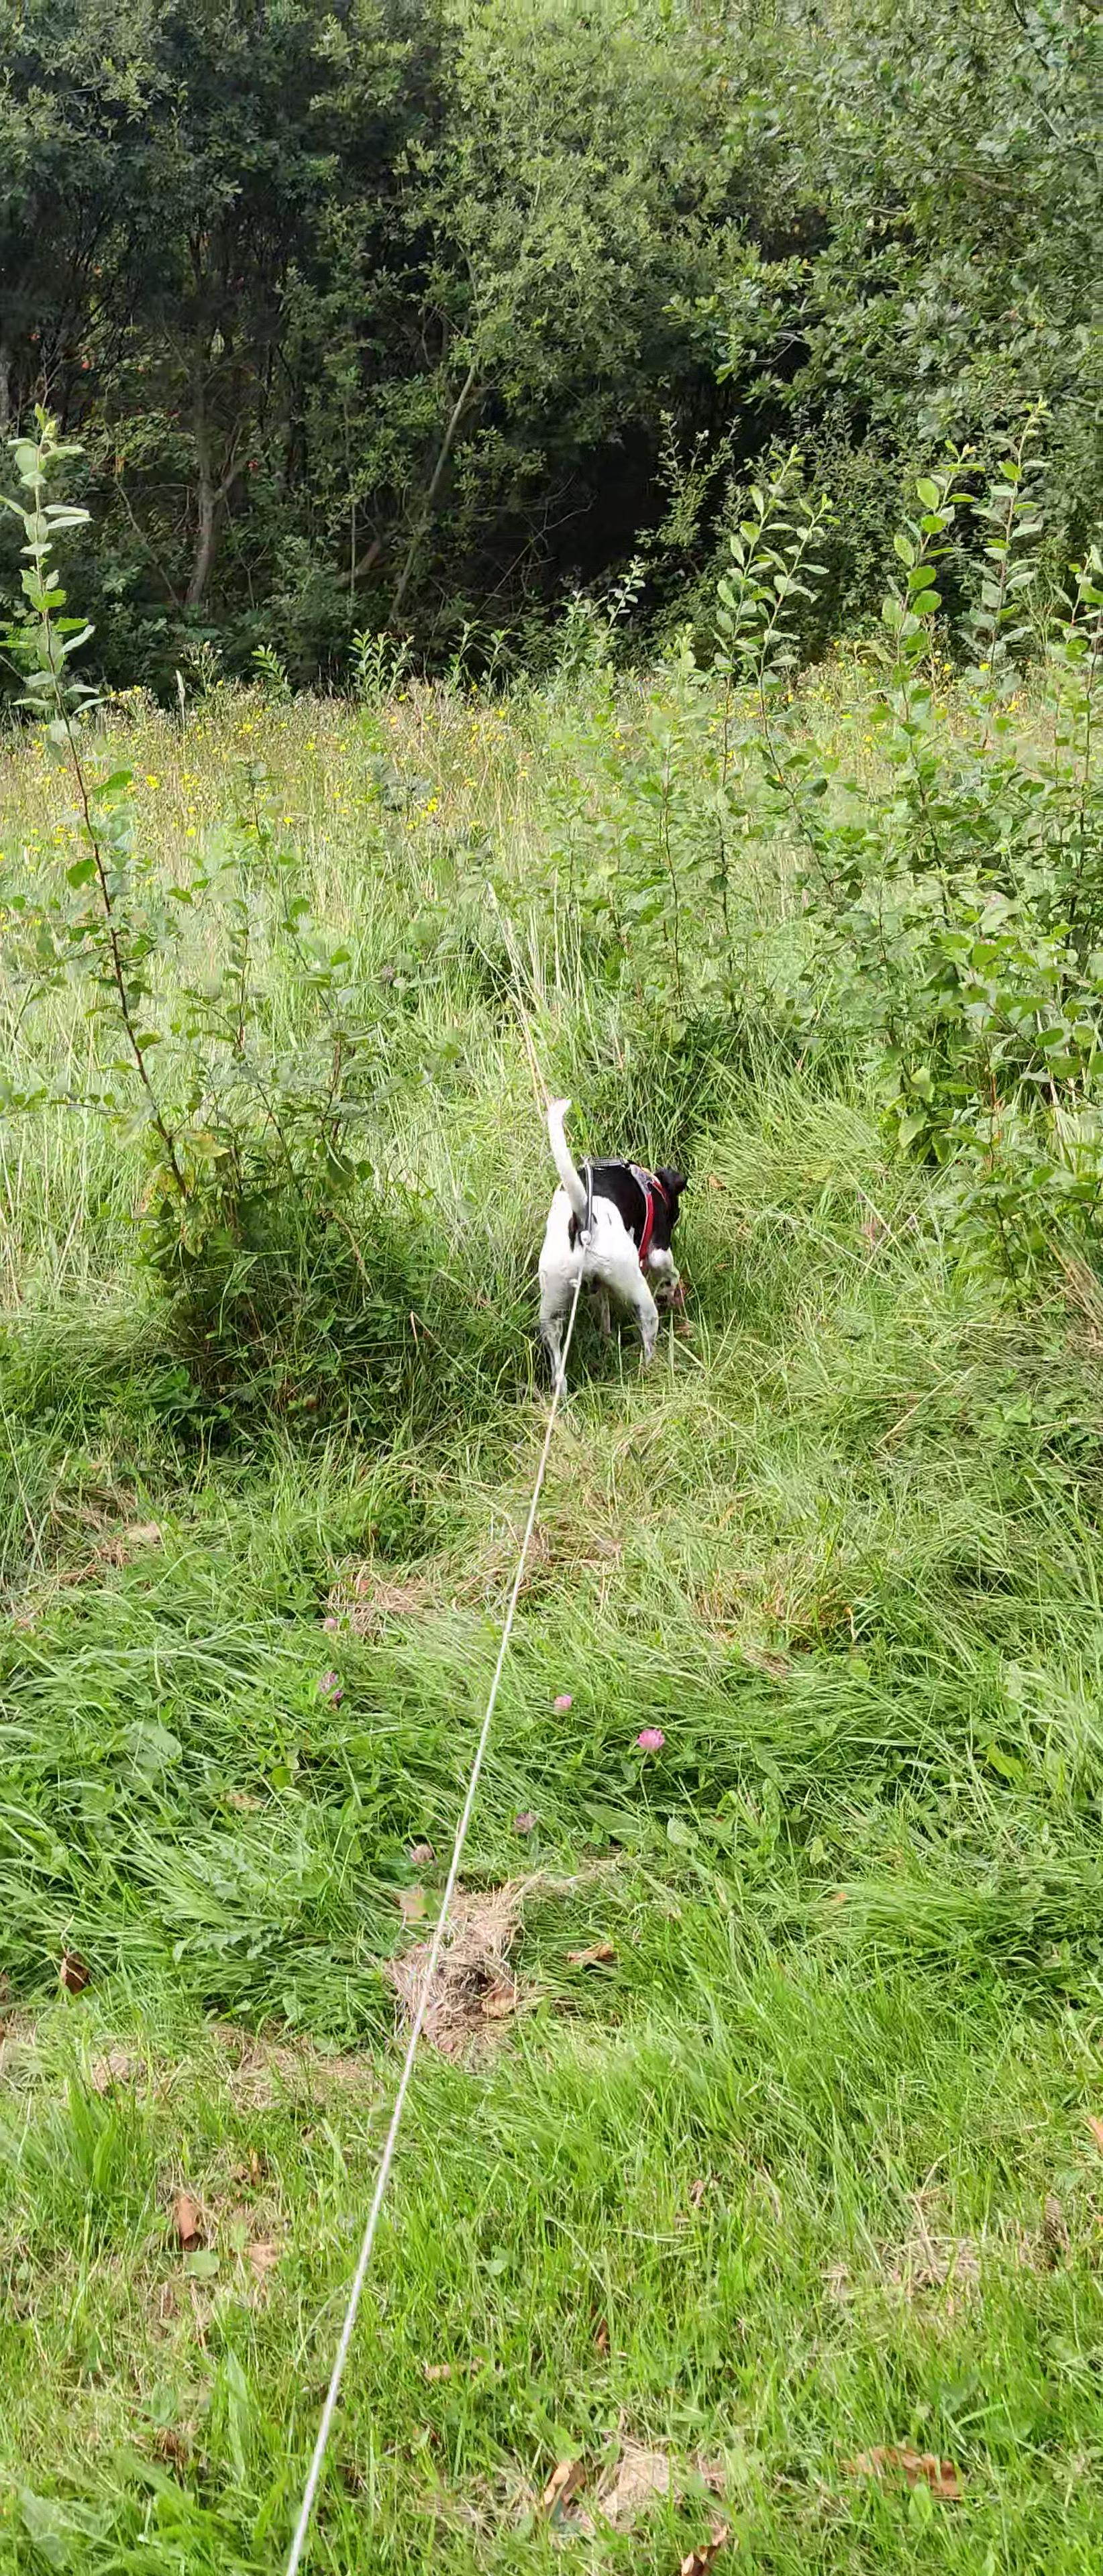Dog: (513, 1074, 704, 1410)
